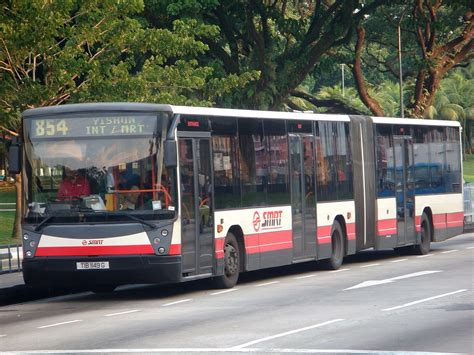bus: (19, 102, 465, 287)
